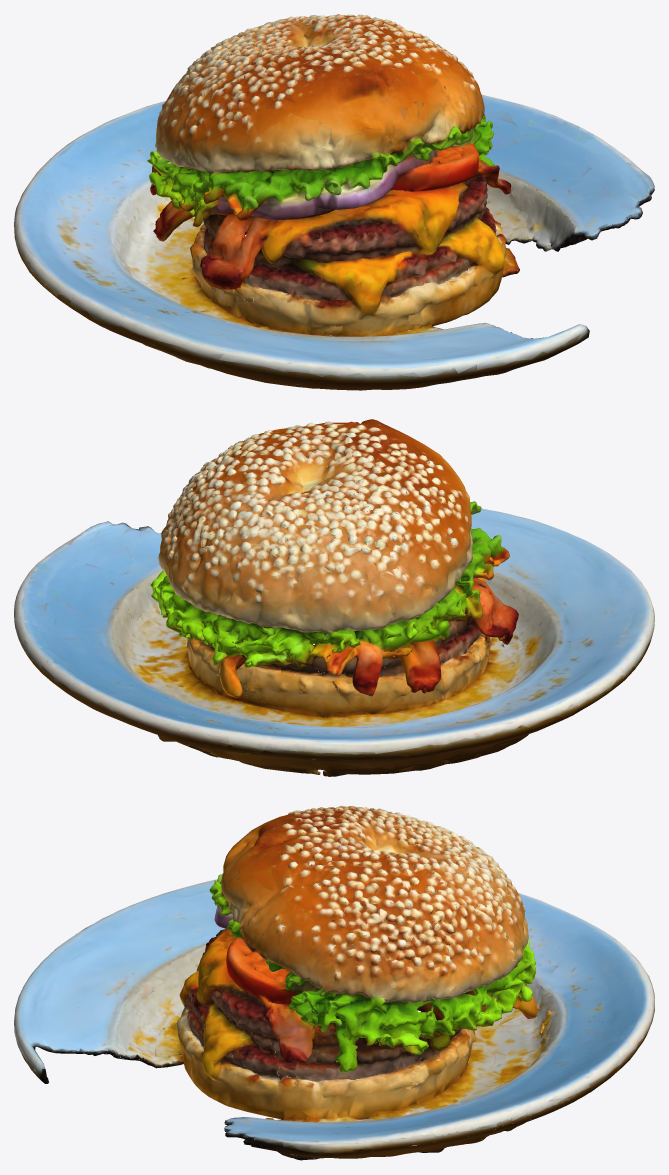
The model's file is hamburguesa.glb.
The picture shows the model from 3 angles, top to bottom: view 1: azimuth 30°, elevation 25°; view 2: azimuth 150°, elevation 25°; view 3: azimuth 270°, elevation 25°; orthographic projection. The views are drawn at different scales.
Visible parts, largest first — view 1: world; view 2: world; view 3: world.
Boxes of the visible parts, bbox=[...] form: world: bbox=[14, 14, 654, 390]; world: bbox=[14, 419, 654, 776]; world: bbox=[14, 805, 654, 1160].
Bounding box in the file's own units: 0.25 × 0.1013 × 0.2487.
Materials: 1 (1 with a texture image).
